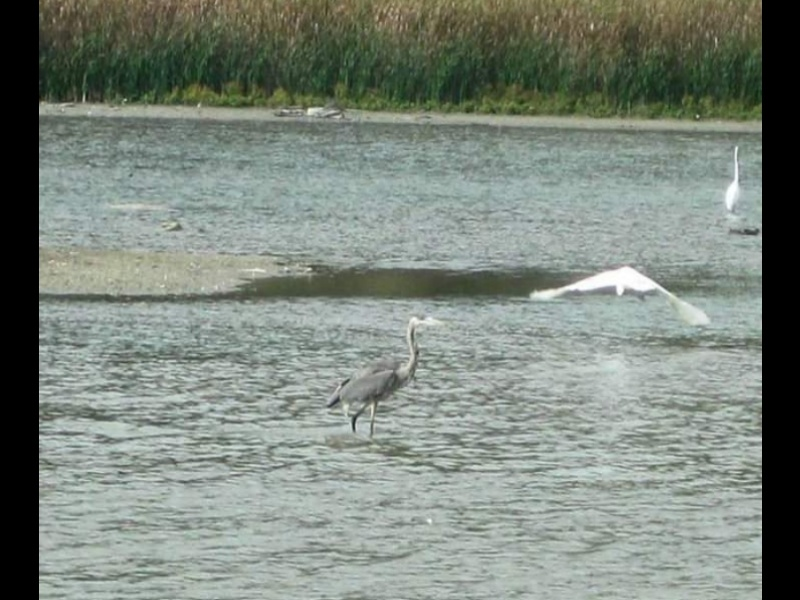heron: (328, 315, 433, 444), (529, 265, 713, 332), (724, 142, 748, 228)
